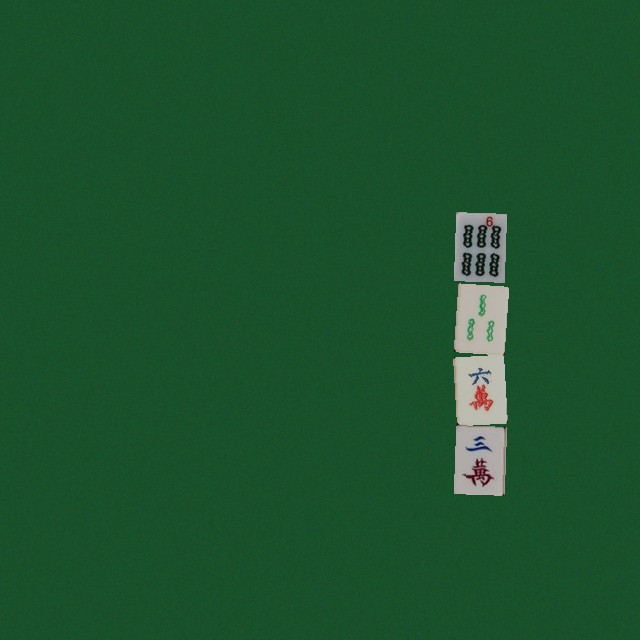tile: (453, 212, 504, 281), (453, 283, 504, 352), (453, 354, 504, 423), (453, 425, 504, 494)
